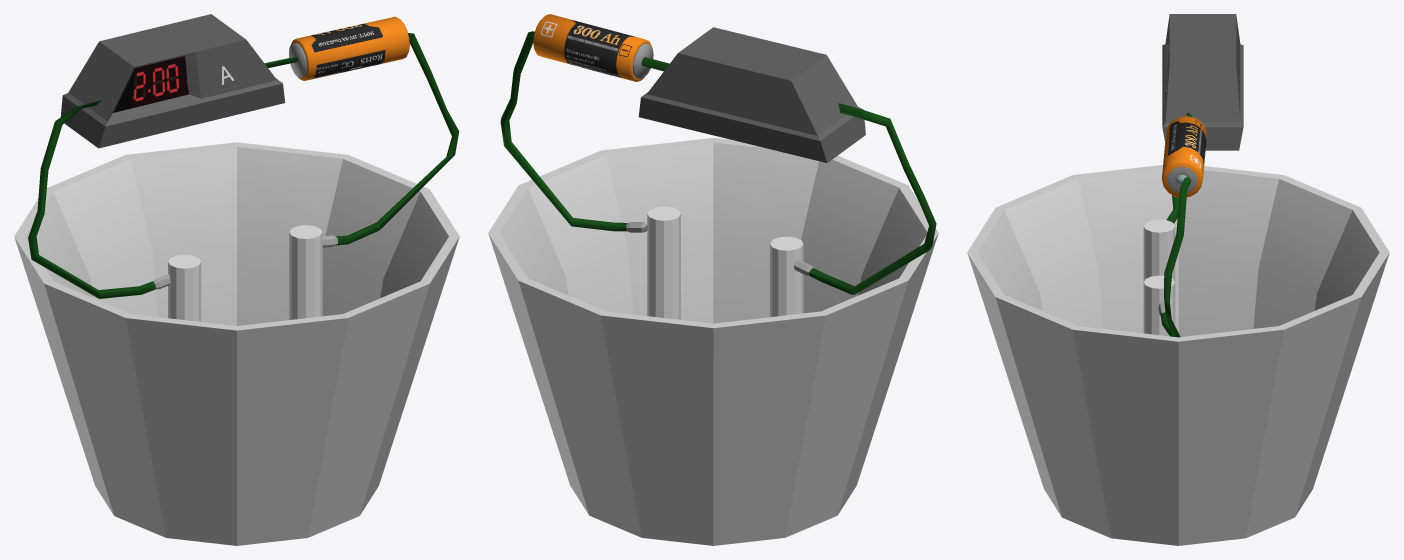
File: ammeter (1).fbx
3 views of the same model, side by side, from view 1: azimuth 30°, elevation 25°; view 2: azimuth 150°, elevation 25°; view 3: azimuth 270°, elevation 25° (orthographic). The views are drawn at different scales.
Visible parts, largest first — view 1: beacker4, ammeter, wire1, metal, battery2; view 2: beacker4, ammeter, metal, wire1, battery2; view 3: beacker4, ammeter, metal, battery2, wire1.
Boxes of the visible parts, x1,y1,x2,y2 form: beacker4: (14,142,459,545); ammeter: (60,14,285,148); wire1: (28,33,459,298); metal: (168,225,322,321); battery2: (289,16,409,80); beacker4: (488,138,938,545); ammeter: (638,27,865,162); metal: (647,206,803,319); wire1: (500,31,936,294); battery2: (533,14,653,81); beacker4: (967,165,1389,545); ammeter: (1162,14,1243,150); metal: (1143,219,1175,336); battery2: (1162,116,1206,197); wire1: (1158,112,1191,337).
Bounding box in the file's own units: 38.29 × 38.14 × 34.33.
7 materials, 2 textured.
